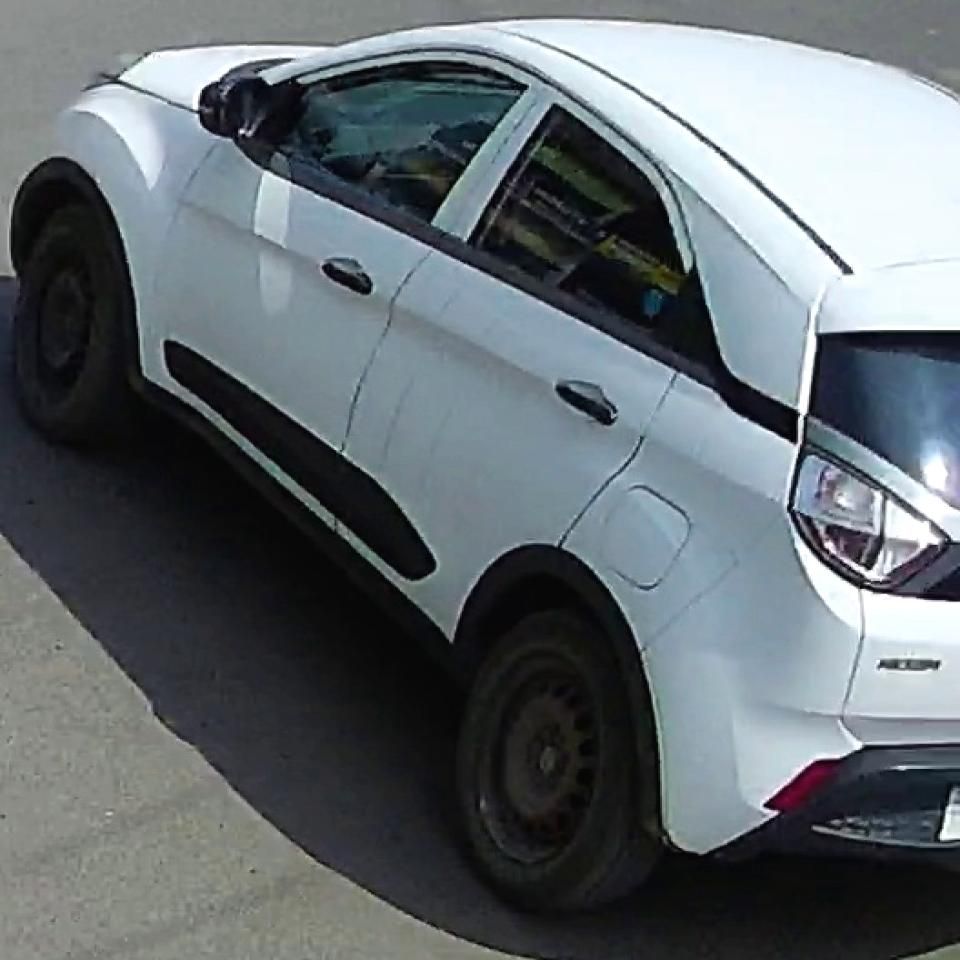tail_light: (793, 451, 940, 581)
